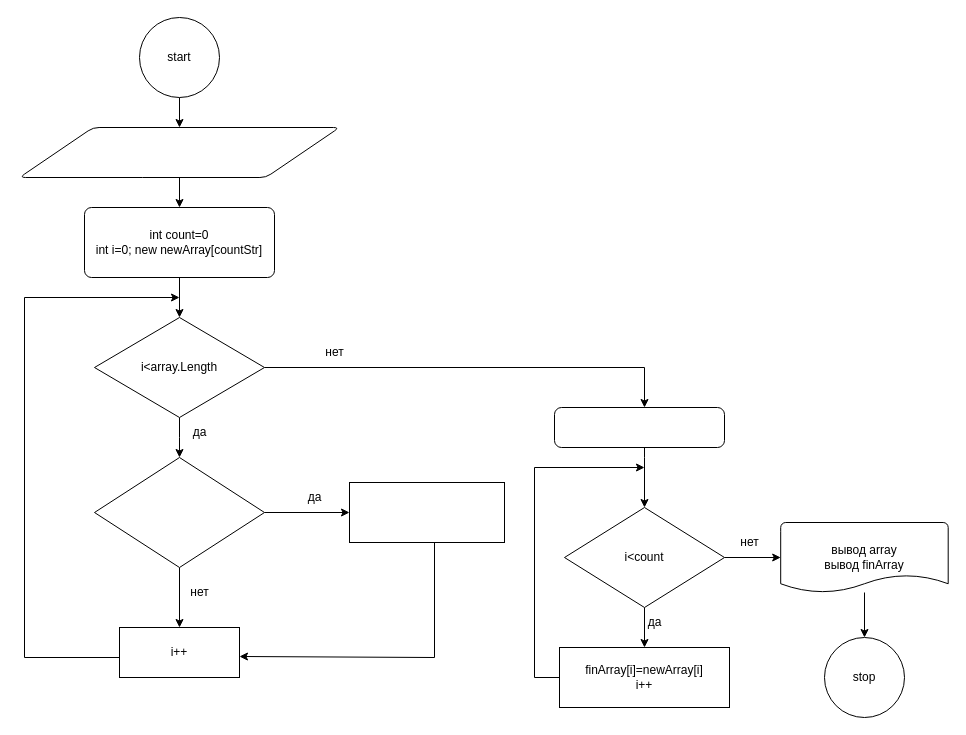
The diagram is 966 pixels wide and 735 high, and some of its shapes have lost their labels. Here are the shapes that lost their labels. From the top down, the centre of each, then its label:
At point (179, 152): "ввод countStr, ввод значений в массив array[countStr]".
At point (639, 427): "int i=0; new finArray[count]".
At point (179, 512): "array[i].Length<=3".
At point (426, 512): "newArray[count]=array[i] count++".
